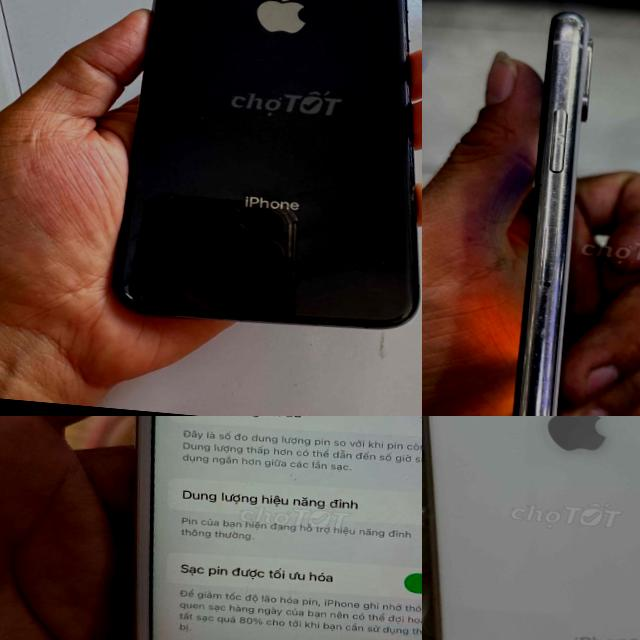gen_6: (90, 416, 422, 640)
gen_x_xs: (108, 0, 422, 340), (422, 416, 640, 640), (513, 12, 592, 416)
